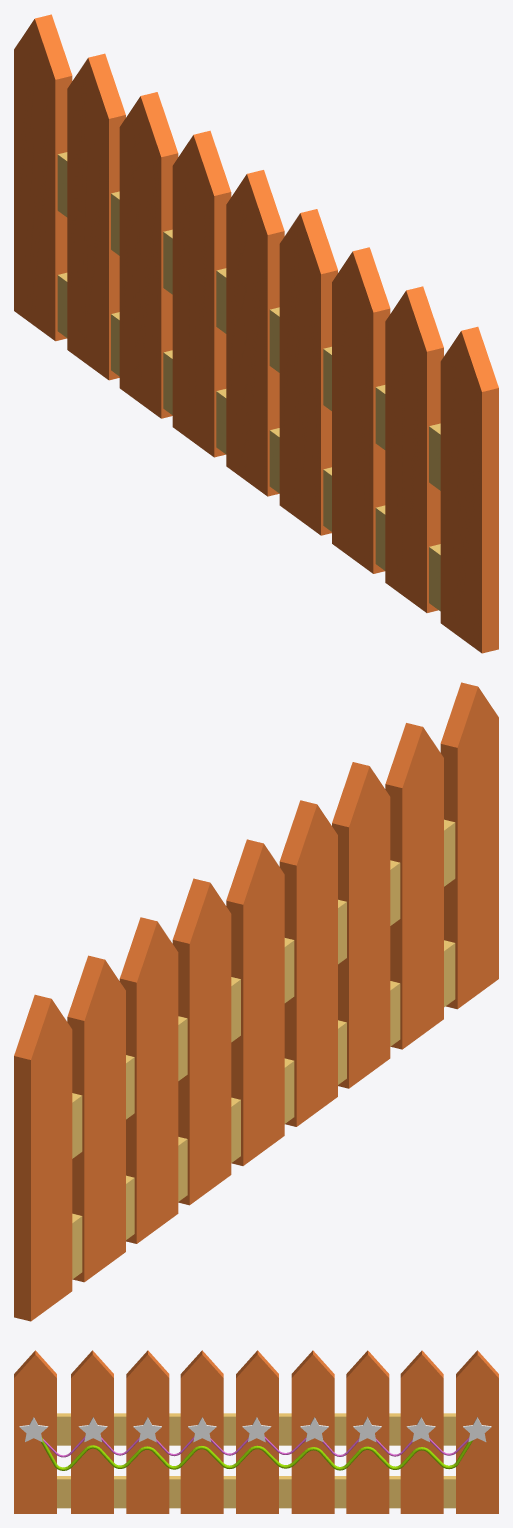
Rendered from FESTIVAL FENCING.glb.
3 renders of one model, top to bottom at view 1: azimuth 30°, elevation 25°; view 2: azimuth 150°, elevation 25°; view 3: azimuth 270°, elevation 25°, orthographic. The views are drawn at different scales.
Parts seen in each view (by area): view 1: FESTIVAL FENCING; view 2: FESTIVAL FENCING; view 3: FESTIVAL FENCING.
Part boxes in pixels (bbox=[...]): FESTIVAL FENCING: bbox=[14, 14, 498, 653]; FESTIVAL FENCING: bbox=[14, 682, 498, 1321]; FESTIVAL FENCING: bbox=[14, 1350, 498, 1513].
Size of the model in its own units: 0.2557 by 3.73 by 10.3.
